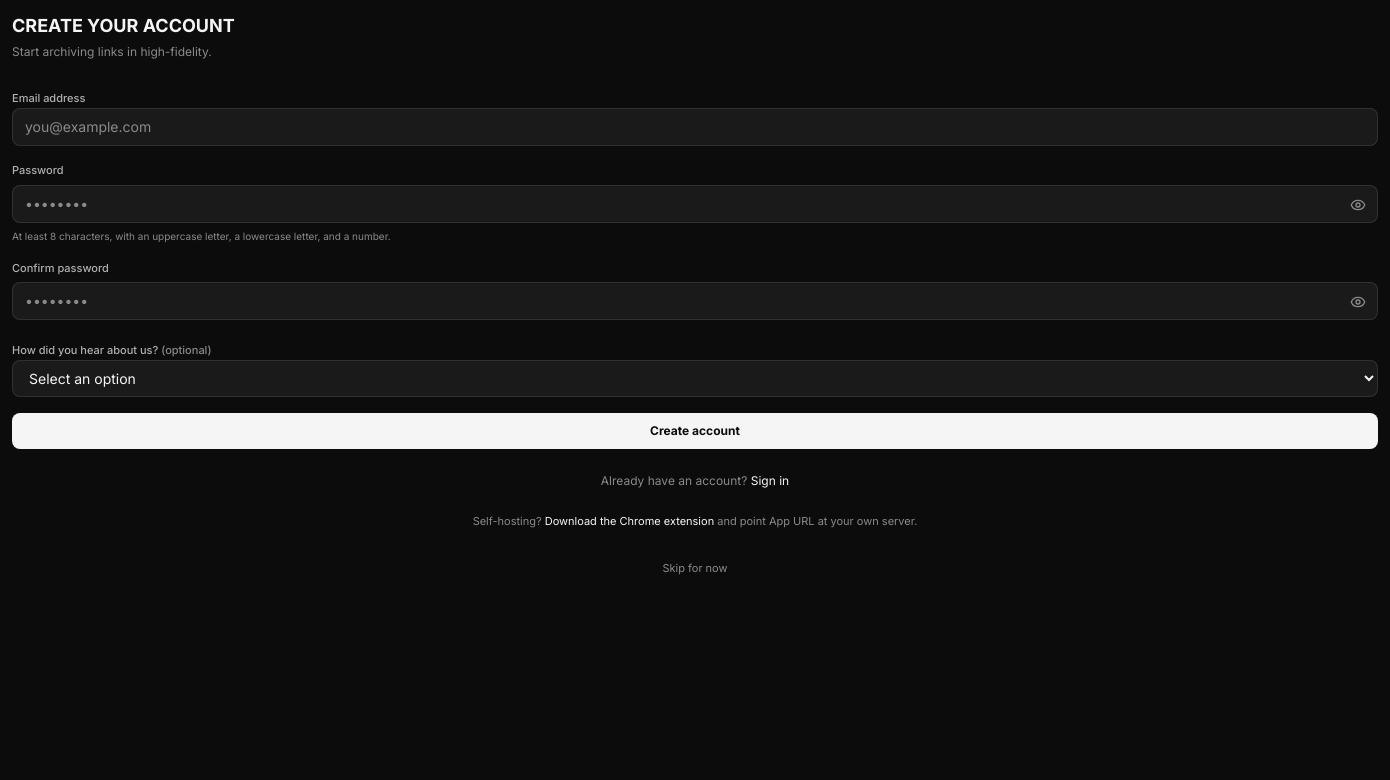
SignupForm after a failed attempt › does not mark the email wrong when the request never reaches memory404
The image size is (1390, 780).
In the field labelled "Email address": {"x": 695, "y": 127} [12, 108, 1378, 146], type "ada@example.com"
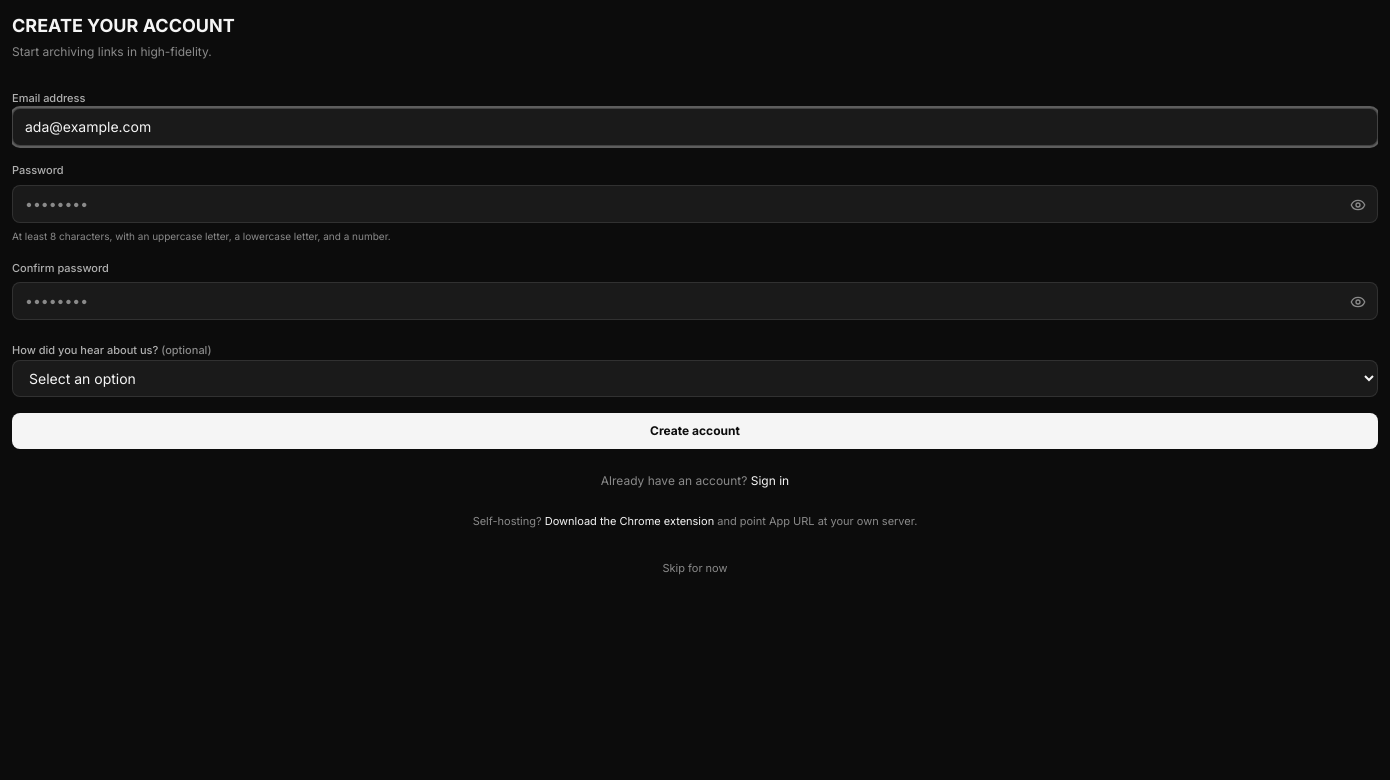
In the password field labelled "Password": {"x": 695, "y": 204} [12, 184, 1378, 222], type "Memory404"
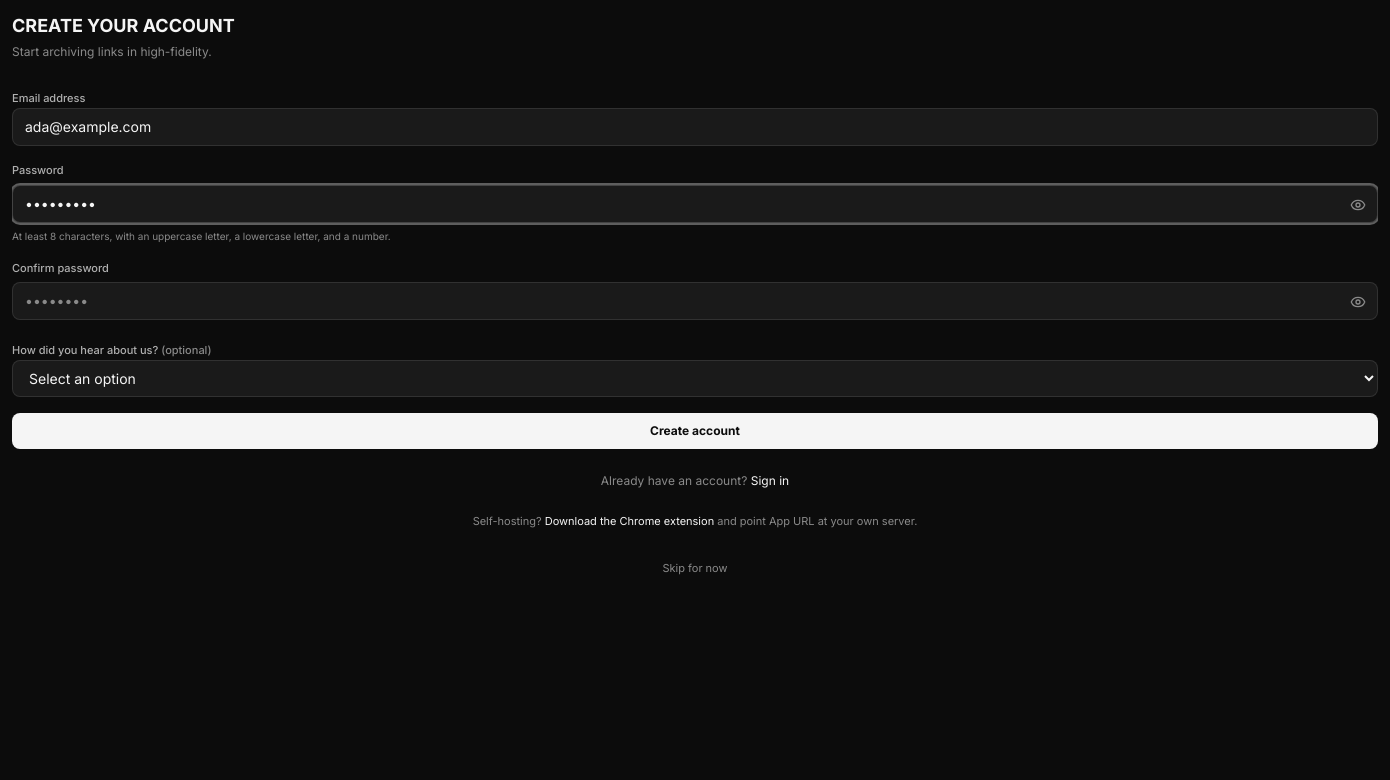
In the password field labelled "Confirm password": {"x": 695, "y": 301} [12, 282, 1378, 320], type "Memory404"
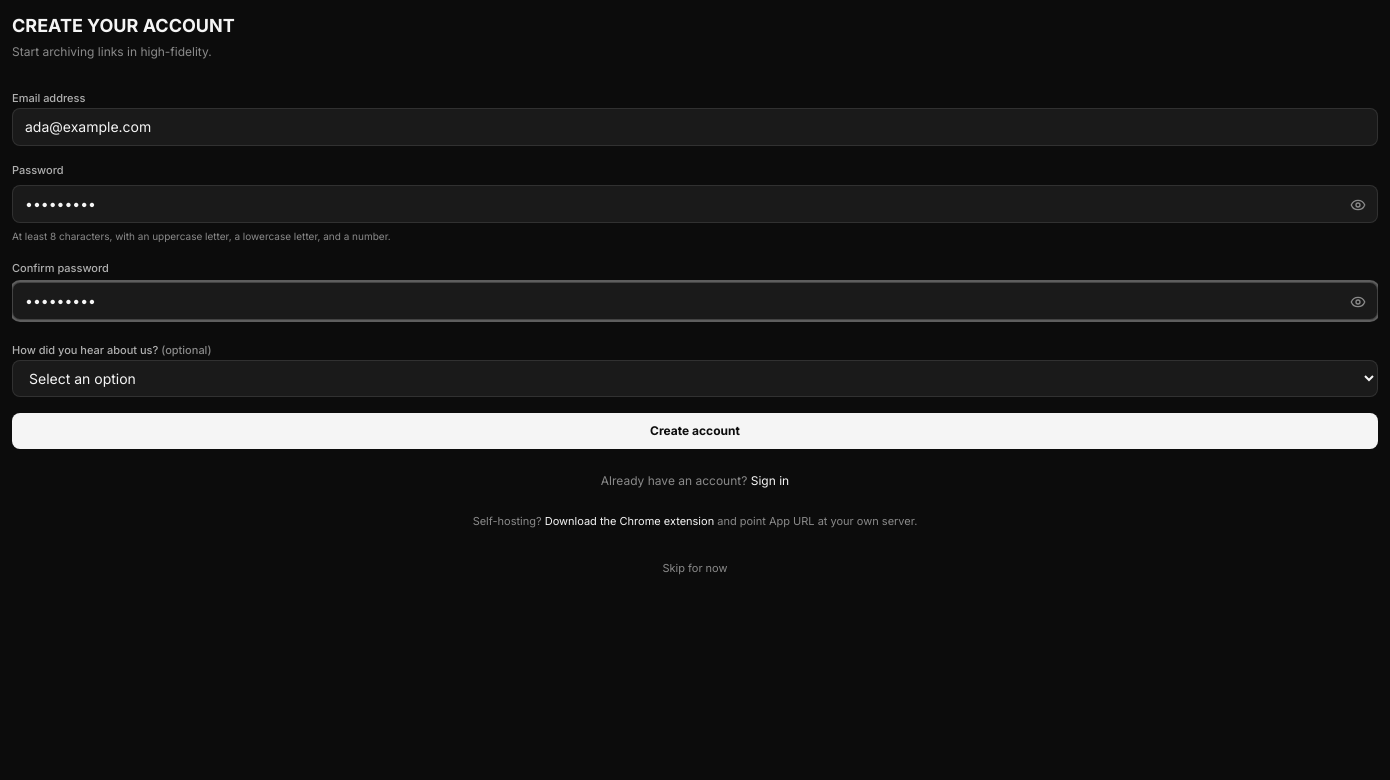
Click the button "Create account": {"x": 695, "y": 431} [12, 413, 1378, 449]
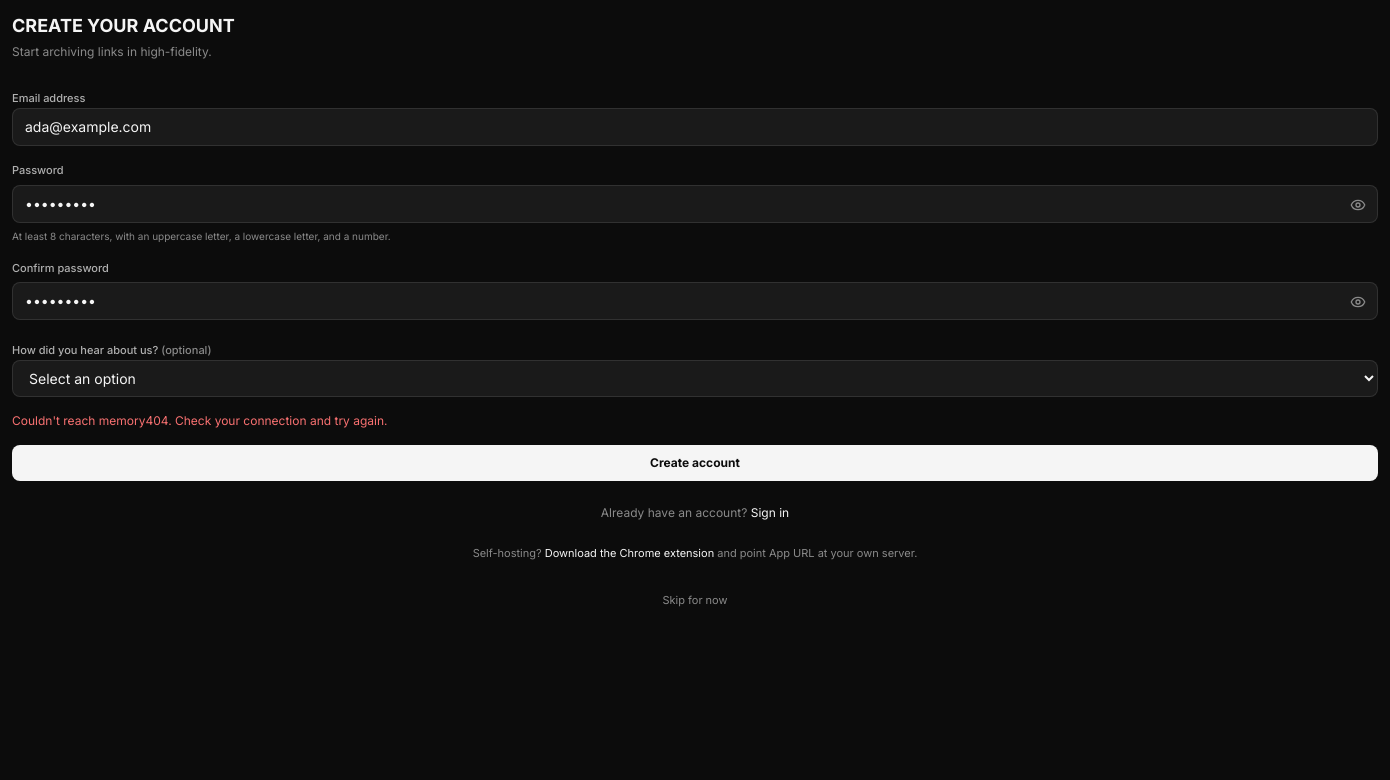
Expected: the message reads "Couldn't reach memory404. Check your connection and try again.", [12, 413, 388, 428]
